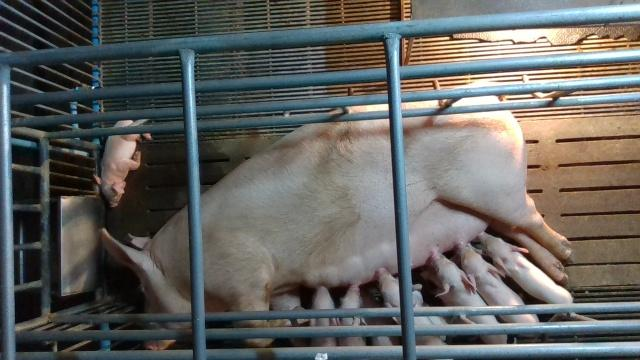piglet: (420, 253, 509, 344), (453, 243, 540, 336), (478, 232, 574, 305), (373, 268, 447, 346), (93, 117, 152, 208), (295, 287, 339, 347), (337, 284, 368, 346)
sow-sleep-lactate: (100, 86, 574, 351)
